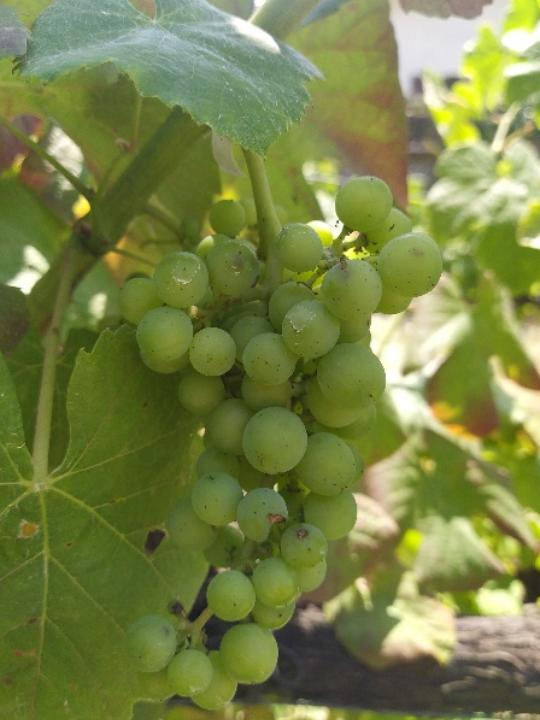grape: (112, 173, 446, 711)
